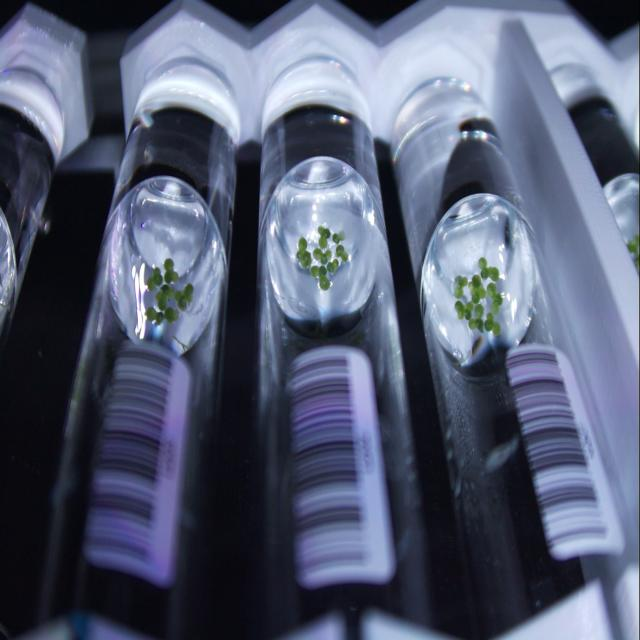Lemna-Gibba: (470, 275, 488, 305), (479, 257, 500, 282), (174, 284, 194, 310), (310, 265, 330, 290), (155, 284, 174, 310), (296, 237, 311, 269), (489, 282, 502, 314), (484, 312, 501, 335), (469, 304, 484, 330), (164, 259, 179, 284), (455, 300, 474, 319), (145, 307, 164, 325), (454, 275, 468, 299), (148, 267, 162, 289), (318, 225, 331, 248), (314, 248, 331, 264), (336, 243, 349, 262), (165, 307, 179, 324), (326, 259, 339, 274), (332, 230, 345, 243)
